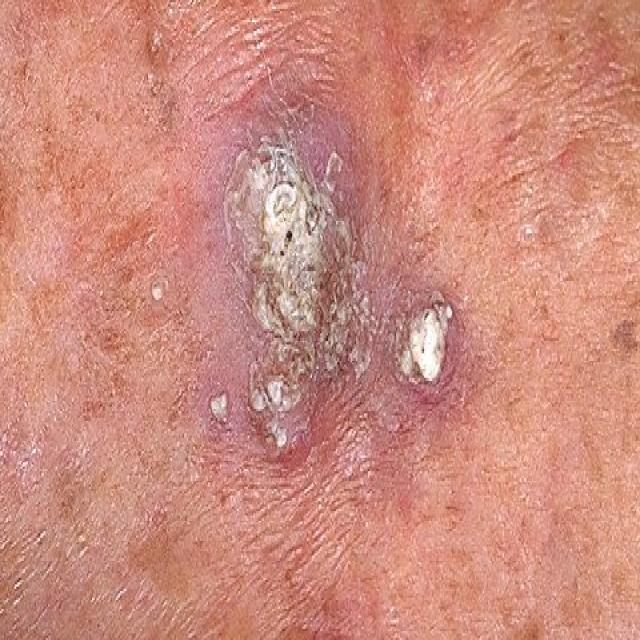Cancer: (189, 74, 490, 476)
